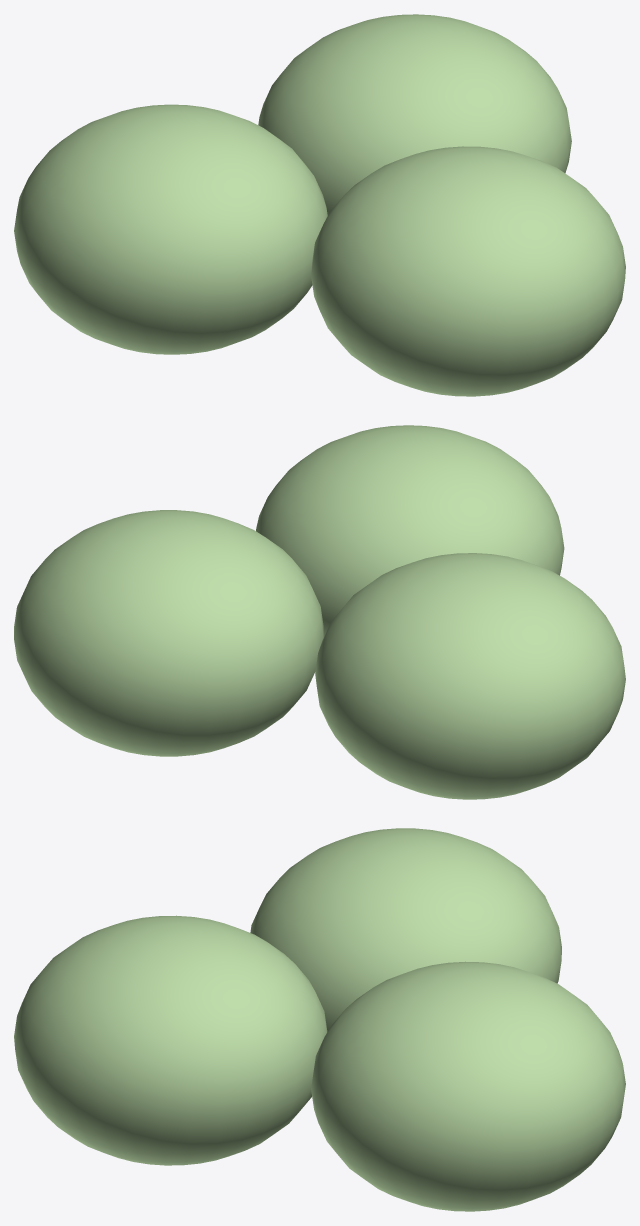
Rendered from cookedondeh10.fbx.
3 views of the same model, one above another, from view 1: azimuth 30°, elevation 25°; view 2: azimuth 150°, elevation 25°; view 3: azimuth 270°, elevation 25° (orthographic).
Visible parts, largest first — view 1: Sphere.045, Sphere.044, Sphere.047; view 2: Sphere.044, Sphere.047, Sphere.045; view 3: Sphere.047, Sphere.045, Sphere.044.
Part boxes in pixels (bbox=[...]): Sphere.045: bbox=[311, 146, 625, 396]; Sphere.044: bbox=[14, 104, 327, 354]; Sphere.047: bbox=[258, 14, 571, 215]; Sphere.044: bbox=[315, 553, 625, 799]; Sphere.047: bbox=[14, 510, 323, 756]; Sphere.045: bbox=[256, 425, 564, 636]; Sphere.047: bbox=[311, 961, 625, 1211]; Sphere.045: bbox=[14, 915, 327, 1165]; Sphere.044: bbox=[250, 828, 561, 1031].
Size of the model in its own units: 130 by 48.17 by 126.
